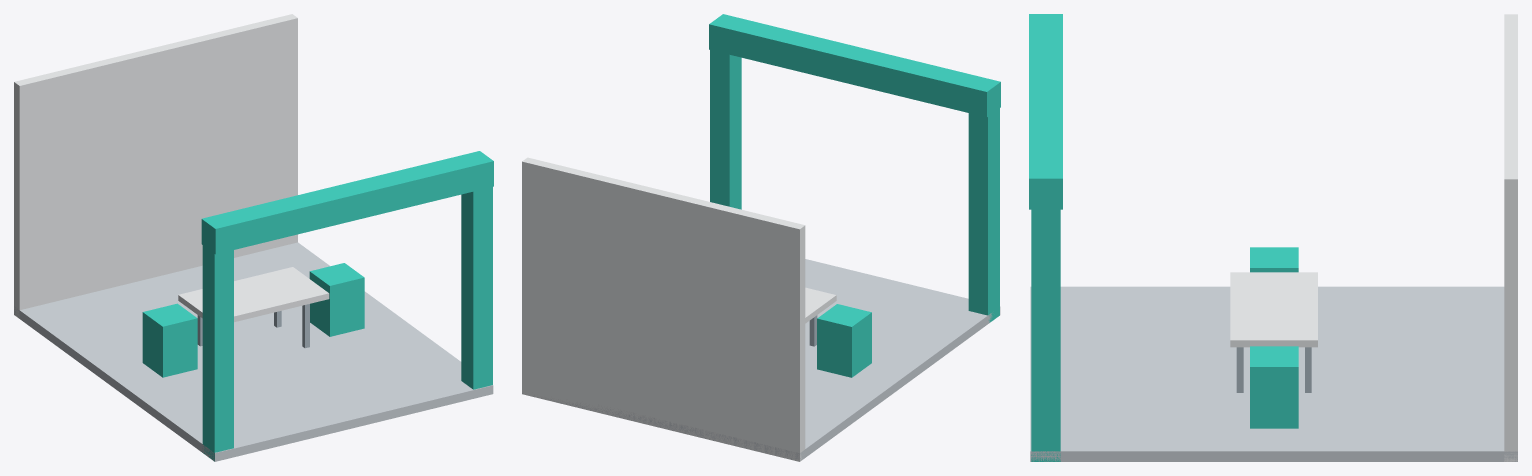
The picture shows the model from 3 angles, left to right: view 1: azimuth 30°, elevation 25°; view 2: azimuth 150°, elevation 25°; view 3: azimuth 270°, elevation 25°; orthographic projection. The views are drawn at different scales.
Parts seen in each view (by area): view 1: Exhibition Booth Concept; view 2: Exhibition Booth Concept; view 3: Exhibition Booth Concept.
Part boxes in pixels (left/top/right/bottom): Exhibition Booth Concept: left=14, top=14, right=493, bottom=461; Exhibition Booth Concept: left=522, top=14, right=1000, bottom=461; Exhibition Booth Concept: left=1029, top=14, right=1517, bottom=461.
Size of the model in its own units: 4 by 3.2 by 5.02.
